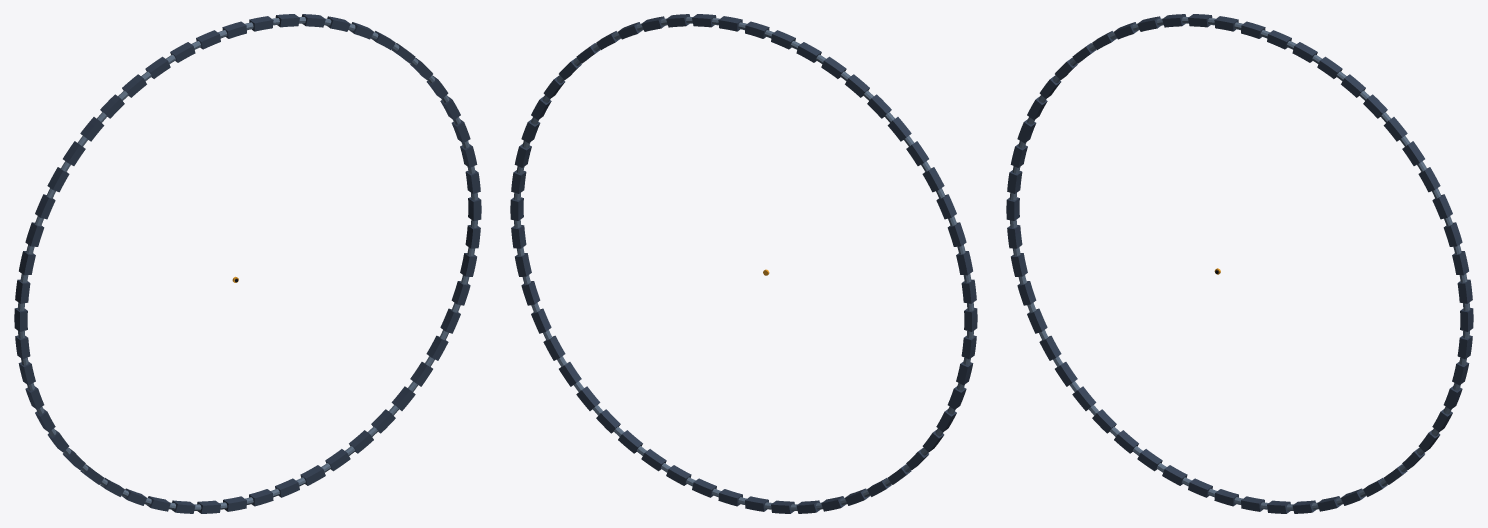
File: 33_L87_RimDriveRotorMagnetArray.fbx
3 views of the same model, side by side, from view 1: azimuth 30°, elevation 25°; view 2: azimuth 150°, elevation 25°; view 3: azimuth 330°, elevation 25° (orthographic).
Visible parts, largest first — view 1: L87_RimDriveRotorMagnetArray_Part_0002, L87_RimDriveRotorMagnetArray_Part_0001, L87_RimDriveRotorMagnetArray_Part_0000, L87_RimDriveRotorMagnetArray_Part_0003; view 2: L87_RimDriveRotorMagnetArray_Part_0002, L87_RimDriveRotorMagnetArray_Part_0001, L87_RimDriveRotorMagnetArray_Part_0000, L87_RimDriveRotorMagnetArray_Part_0003; view 3: L87_RimDriveRotorMagnetArray_Part_0000, L87_RimDriveRotorMagnetArray_Part_0001, L87_RimDriveRotorMagnetArray_Part_0002, L87_RimDriveRotorMagnetArray_Part_0003.
Part boxes in pixels (x1,y1,x2,y2): L87_RimDriveRotorMagnetArray_Part_0002: (122, 225, 480, 513); L87_RimDriveRotorMagnetArray_Part_0001: (14, 74, 146, 496); L87_RimDriveRotorMagnetArray_Part_0000: (145, 14, 481, 220); L87_RimDriveRotorMagnetArray_Part_0003: (18, 17, 477, 510); L87_RimDriveRotorMagnetArray_Part_0002: (511, 225, 869, 513); L87_RimDriveRotorMagnetArray_Part_0001: (845, 74, 977, 496); L87_RimDriveRotorMagnetArray_Part_0000: (510, 14, 846, 220); L87_RimDriveRotorMagnetArray_Part_0003: (514, 17, 973, 510); L87_RimDriveRotorMagnetArray_Part_0000: (1137, 14, 1473, 331); L87_RimDriveRotorMagnetArray_Part_0001: (1006, 22, 1137, 433); L87_RimDriveRotorMagnetArray_Part_0002: (1114, 335, 1472, 513); L87_RimDriveRotorMagnetArray_Part_0003: (1010, 17, 1469, 510).
Bounding box in the file's own units: 1125 × 1125 × 36.7.
